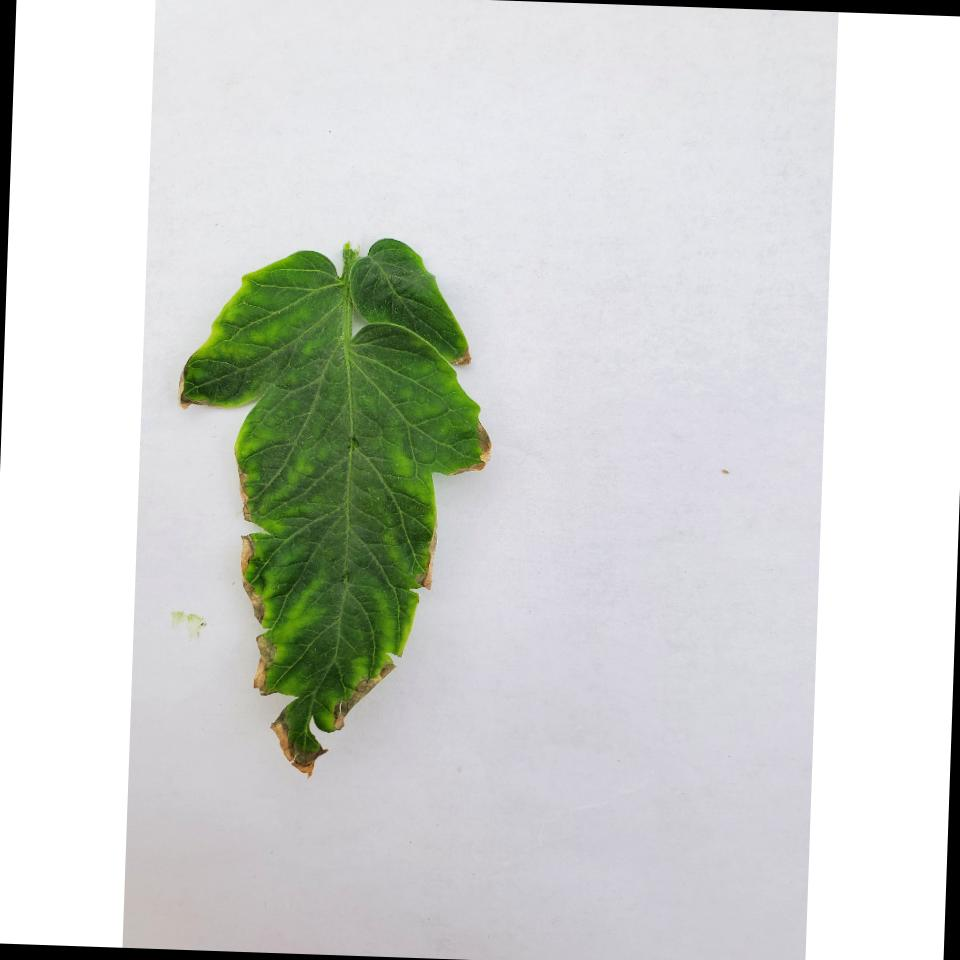tomato_bacterial_blight: (185, 260, 492, 753)
